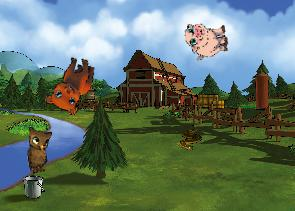bear: (43, 51, 97, 117)
owl: (23, 124, 58, 174)
pig: (183, 17, 230, 61)
